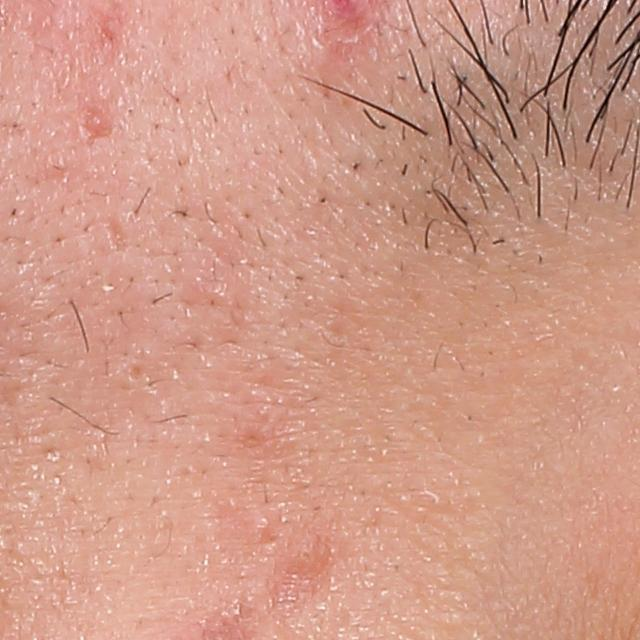atrophic_scar: (270, 562, 336, 620), (104, 211, 130, 256)
